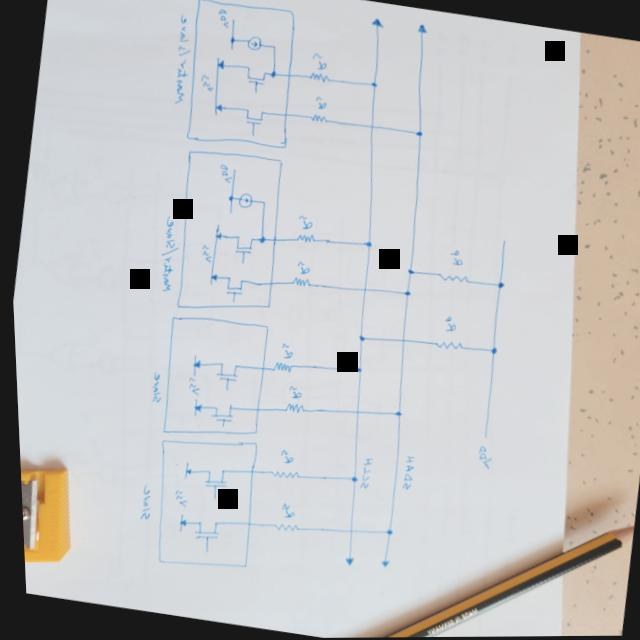crossover: (340, 527, 350, 536), (357, 286, 366, 295), (395, 337, 404, 346), (349, 409, 357, 418), (366, 124, 374, 132)
junction: (484, 346, 496, 357), (492, 282, 503, 293), (379, 528, 389, 539), (350, 366, 361, 376), (402, 268, 413, 278), (389, 410, 400, 420), (344, 476, 354, 487), (227, 36, 237, 47), (361, 240, 371, 250), (412, 130, 422, 140), (399, 289, 409, 299), (255, 236, 265, 246), (368, 81, 378, 90), (354, 335, 363, 345), (269, 71, 276, 80), (258, 200, 265, 208), (269, 45, 276, 52), (225, 196, 232, 203)
resistor: (435, 271, 468, 288), (265, 467, 297, 483), (431, 339, 461, 354), (268, 521, 295, 535), (267, 361, 290, 376), (279, 403, 302, 417), (306, 72, 330, 85), (287, 277, 309, 290), (292, 233, 314, 246), (308, 113, 327, 126)
source: (214, 60, 227, 72), (188, 360, 199, 371), (188, 404, 199, 413), (211, 104, 221, 113), (206, 274, 215, 283), (174, 519, 183, 528), (180, 469, 188, 476), (213, 233, 220, 240)
terminal: (205, 58, 226, 119), (202, 223, 220, 287), (222, 169, 237, 217), (226, 19, 238, 52), (368, 17, 387, 32), (185, 356, 195, 379), (414, 24, 429, 38), (336, 556, 351, 569), (187, 399, 196, 419), (172, 513, 180, 535), (178, 462, 185, 482), (374, 559, 384, 570), (497, 238, 506, 247), (206, 496, 214, 503), (247, 134, 256, 140), (251, 89, 258, 96), (197, 548, 204, 555), (216, 422, 222, 429), (477, 436, 484, 441), (236, 260, 241, 266), (227, 300, 233, 305), (220, 388, 225, 393)
text: (164, 13, 197, 107), (150, 214, 182, 294), (132, 485, 151, 522), (395, 456, 413, 493), (353, 458, 370, 491), (469, 446, 490, 471), (145, 373, 161, 404), (307, 52, 330, 73), (166, 488, 186, 510), (215, 164, 233, 186), (438, 315, 455, 336), (215, 8, 231, 30), (196, 243, 212, 265), (275, 343, 293, 362), (182, 377, 198, 398), (274, 449, 292, 467), (274, 504, 292, 521), (283, 386, 301, 402), (198, 73, 213, 92), (295, 215, 312, 231), (292, 261, 309, 277), (312, 97, 327, 113)
transistor: (196, 465, 225, 491), (187, 518, 215, 544), (241, 64, 269, 89), (211, 361, 237, 385), (205, 403, 232, 425), (241, 107, 266, 130), (229, 235, 253, 258), (220, 276, 243, 299)
